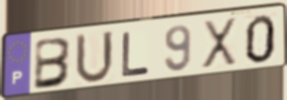0: (244, 13, 279, 65)
9: (162, 24, 193, 74)
B: (32, 36, 75, 92)
L: (120, 30, 152, 80)
U: (73, 29, 116, 87)
X: (200, 16, 238, 71)
